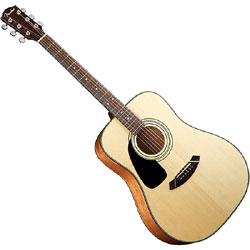guitar: (1, 5, 250, 246)
